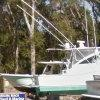Boat: (2, 62, 94, 96)
